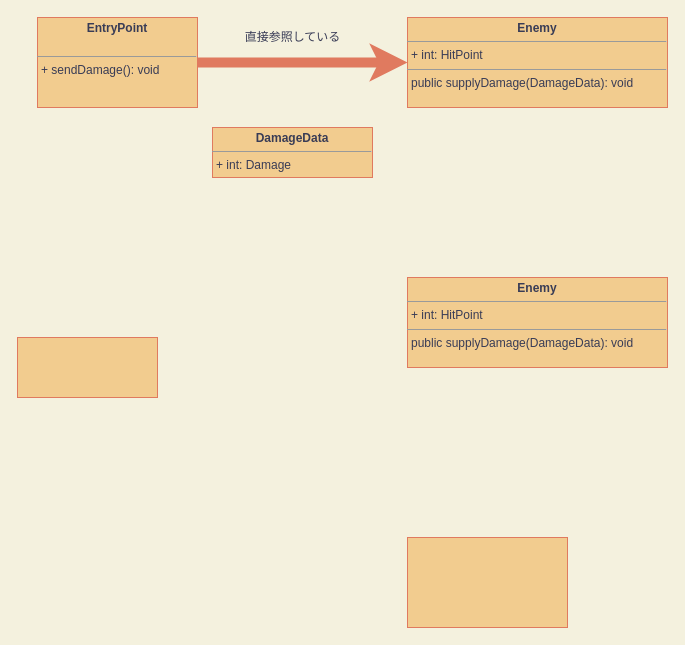
Image size: 685x645. Some labels were removed from this diagram. The box of each missing label's shape, as (x1, y1, x2, y2) in pixels:
EntryPoint Publisher + sendDamage(): void: (406, 536, 568, 628)
LifeTimeScope Publisher: (16, 336, 158, 398)
